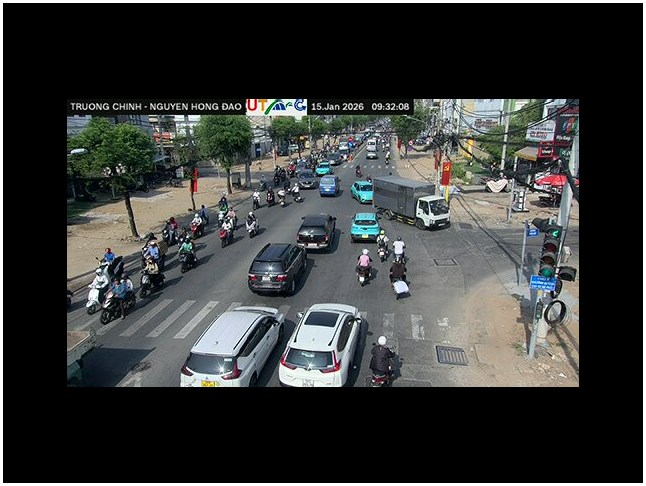car: (179, 304, 286, 386), (278, 302, 371, 386), (247, 242, 312, 296), (295, 213, 340, 253), (350, 211, 382, 243), (350, 179, 374, 204), (319, 174, 340, 197)
motorbike: (97, 275, 137, 324), (356, 250, 376, 287)
truck: (372, 175, 450, 230)
